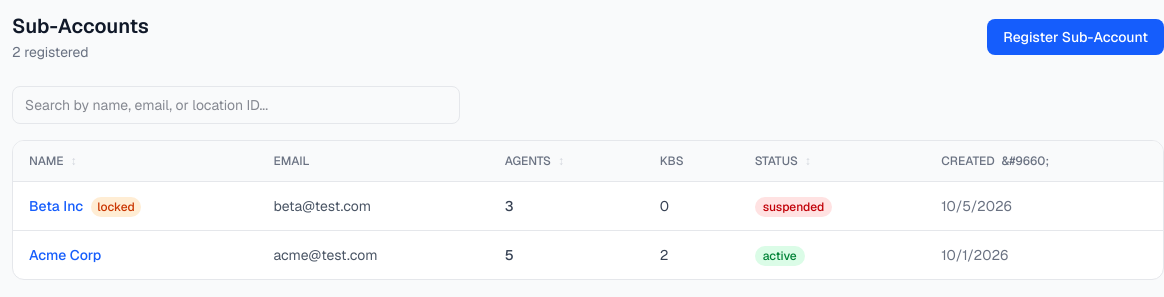
Test: TenantsTable › filters by email
Type "beta@test" into the field with placeholder "Search by name, email, or location ID..." at (236, 105), box [12,86,460,124]
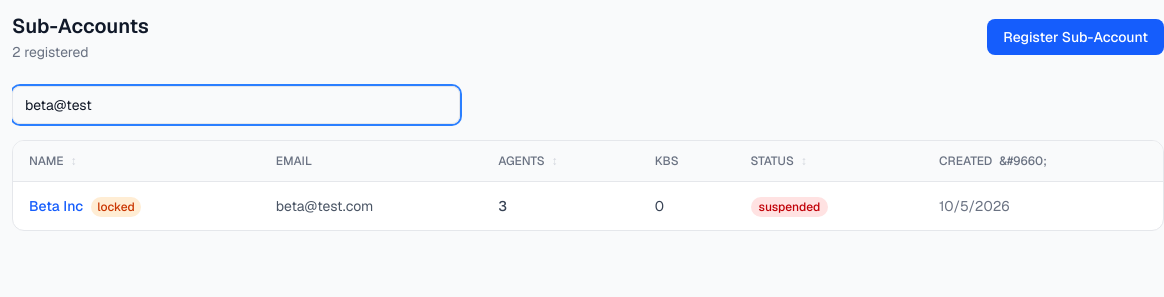
Expected: the link "Beta Inc" is shown, [29,197,83,215]
Now the link "Acme Corp" is gone
